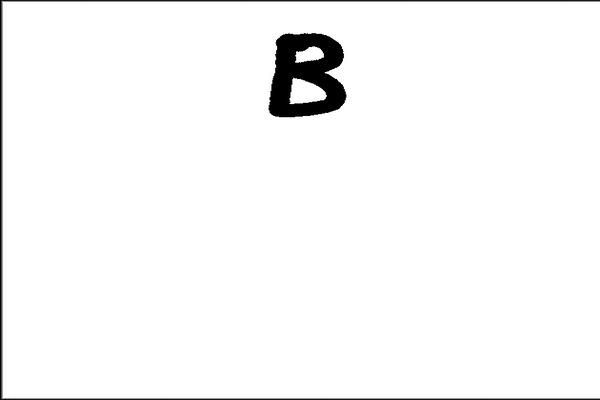B: (259, 23, 362, 128)
